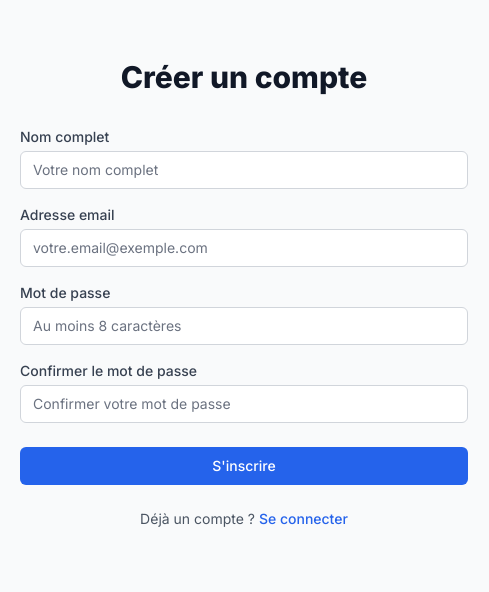
Test case: FormulaireInscription › Validation des champs obligatoires › affiche une erreur quand le nom est manquant
The width and height of the screenshot is (489, 592).
Step 1. Click the button "S'inscrire" → click(244, 466), box [20, 447, 468, 485]
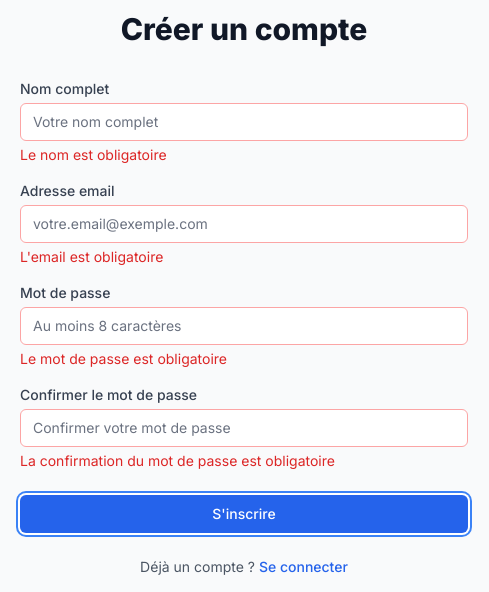
Result: the text "Le nom est obligatoire" is shown at [20, 146, 167, 163]
